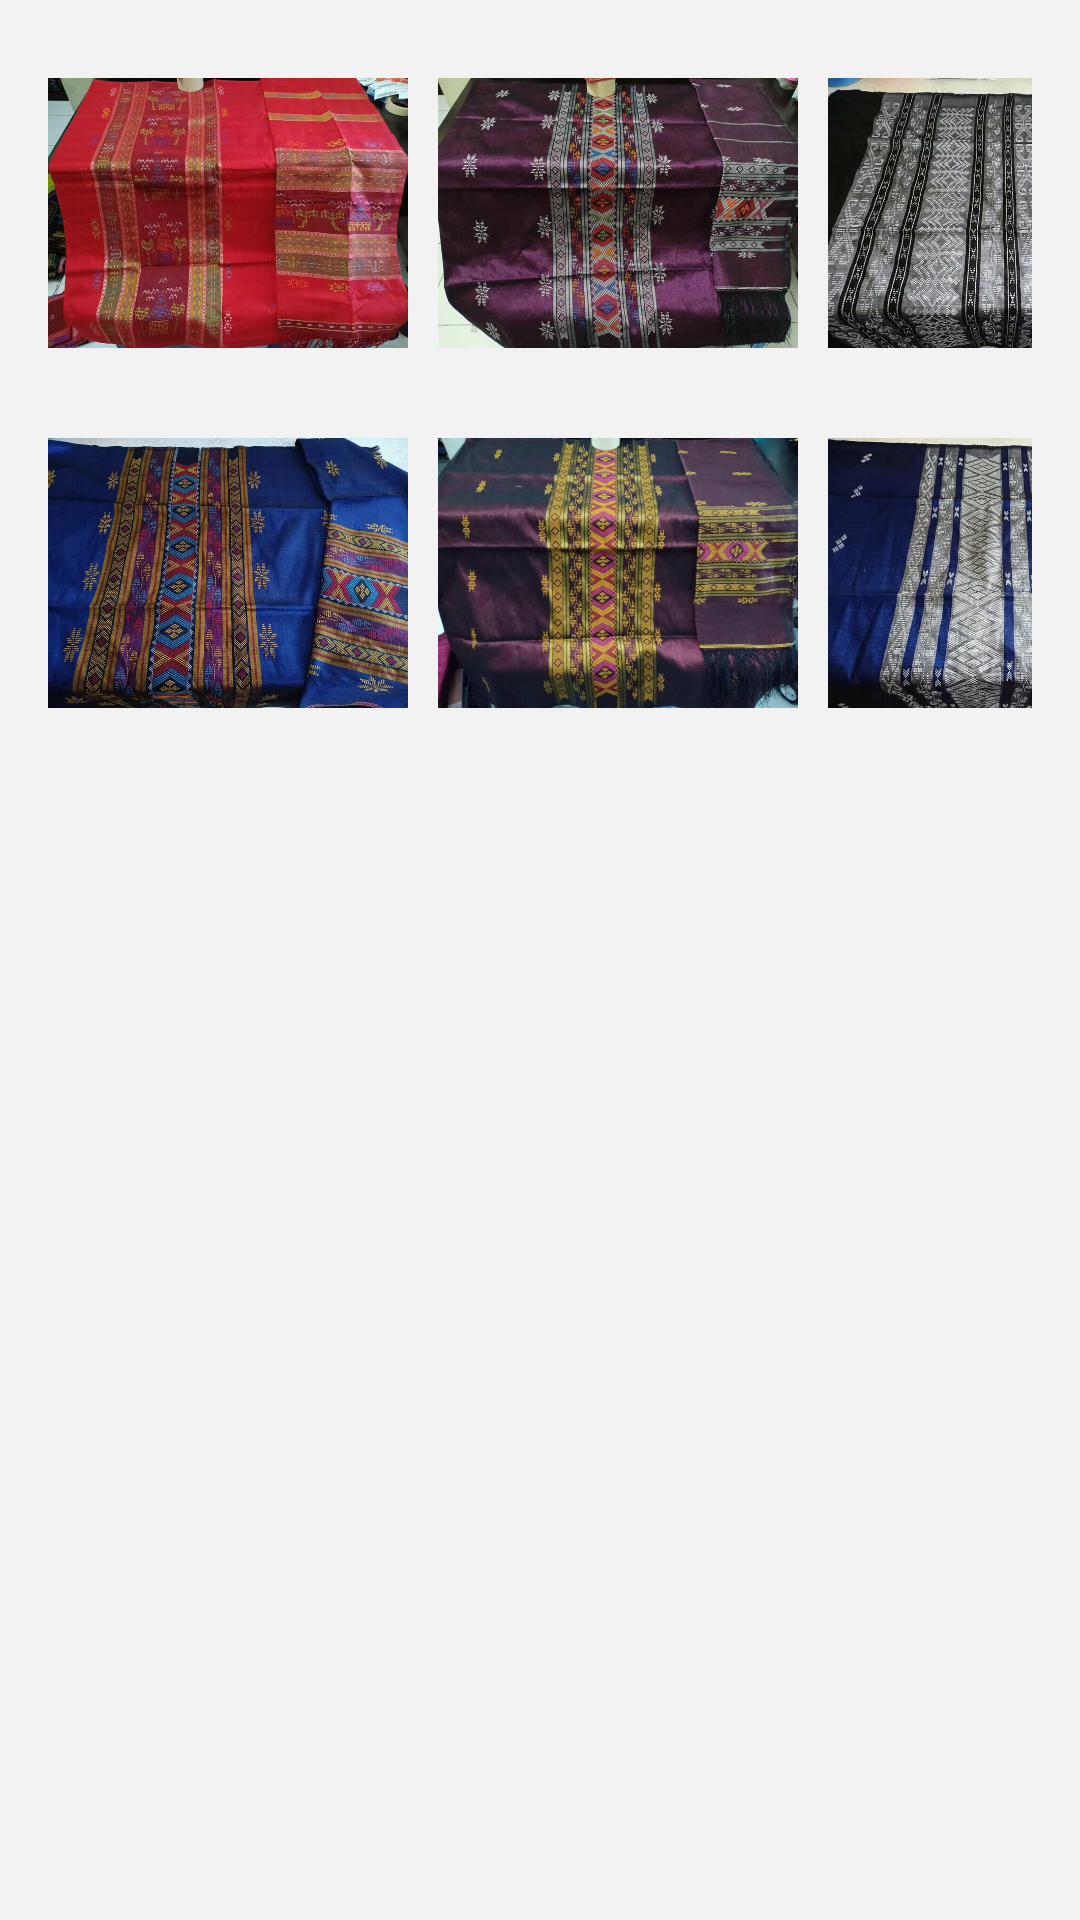

Named icons in this screenshot (1080px×1920px) and their bounding boxes, (x1, y1, x2, y2):
gambarlagi: (48, 78, 408, 348)
